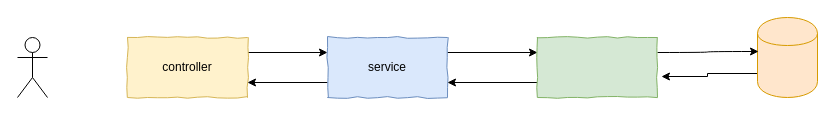
The diagram is 835 pixels wide and 136 high, and some of its shapes have lost their labels. The shapes that lost their labels are listed below. From the top down, each one's box as (x1, y1, x2, y2) in pixels, then its label:
(16, 36, 48, 98): Actor
(536, 36, 658, 98): models
